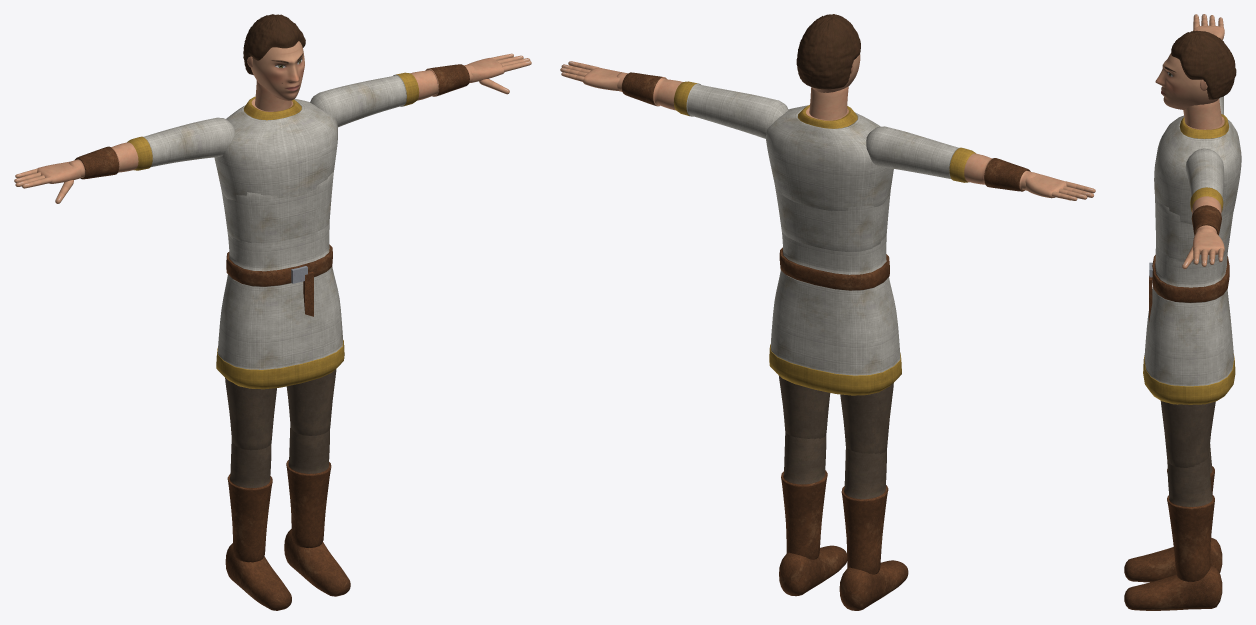
Rendered from body.glb.
The picture shows the model from 3 angles, left to right: view 1: azimuth 30°, elevation 25°; view 2: azimuth 150°, elevation 25°; view 3: azimuth 270°, elevation 25°; orthographic projection. The views are drawn at different scales.
Parts seen in each view (by area): view 1: B_mixamorigHips, B_mixamorigSpine2, B_mixamorigSpine, B_mixamorigSpine1, B_mixamorigRightLeg, B_mixamorigLeftLeg, B_mixamorigHead, B_mixamorigRightArm, B_mixamorigLeftArm, B_mixamorigRightUpLeg, B_mixamorigLeftUpLeg, B_mixamorigLeftFoot (+3 smaller); view 2: B_mixamorigHips, B_mixamorigSpine2, B_mixamorigLeftLeg, B_mixamorigRightLeg, B_mixamorigSpine1, B_mixamorigSpine, B_mixamorigHead, B_mixamorigLeftArm, B_mixamorigRightArm, B_mixamorigRightUpLeg, B_mixamorigLeftUpLeg, B_mixamorigRightFoot (+4 smaller); view 3: B_mixamorigHips, B_mixamorigSpine2, B_mixamorigLeftLeg, B_mixamorigHead, B_mixamorigSpine, B_mixamorigLeftFoot, B_mixamorigLeftUpLeg, B_mixamorigSpine1, B_mixamorigLeftArm, B_mixamorigRightFoot, B_mixamorigLeftForeArm, B_mixamorigNeck (+2 smaller).
Part boxes in pixels (x1=…): B_mixamorigHips: x1=216, y1=267, x2=344, y2=389; B_mixamorigSpine2: x1=214, y1=96, x2=337, y2=200; B_mixamorigSpine: x1=226, y1=222, x2=332, y2=316; B_mixamorigSpine1: x1=222, y1=172, x2=333, y2=243; B_mixamorigRightLeg: x1=227, y1=439, x2=272, y2=562; B_mixamorigLeftLeg: x1=286, y1=425, x2=331, y2=547; B_mixamorigHead: x1=243, y1=14, x2=305, y2=100; B_mixamorigRightArm: x1=127, y1=117, x2=234, y2=170; B_mixamorigLeftArm: x1=310, y1=72, x2=419, y2=127; B_mixamorigRightUpLeg: x1=225, y1=378, x2=276, y2=450; B_mixamorigLeftUpLeg: x1=286, y1=369, x2=336, y2=435; B_mixamorigLeftFoot: x1=284, y1=529, x2=350, y2=596; B_mixamorigHips: x1=769, y1=270, x2=901, y2=395; B_mixamorigSpine2: x1=766, y1=105, x2=893, y2=211; B_mixamorigLeftLeg: x1=781, y1=432, x2=827, y2=559; B_mixamorigRightLeg: x1=841, y1=447, x2=888, y2=574; B_mixamorigSpine1: x1=775, y1=185, x2=890, y2=251; B_mixamorigSpine: x1=779, y1=232, x2=889, y2=290; B_mixamorigHead: x1=796, y1=14, x2=860, y2=92; B_mixamorigLeftArm: x1=673, y1=81, x2=788, y2=138; B_mixamorigRightArm: x1=866, y1=126, x2=975, y2=182; B_mixamorigRightUpLeg: x1=840, y1=383, x2=893, y2=453; B_mixamorigLeftUpLeg: x1=778, y1=375, x2=830, y2=439; B_mixamorigRightFoot: x1=839, y1=560, x2=908, y2=610; B_mixamorigHips: x1=1143, y1=286, x2=1235, y2=404; B_mixamorigSpine2: x1=1154, y1=114, x2=1241, y2=224; B_mixamorigLeftLeg: x1=1167, y1=456, x2=1214, y2=581; B_mixamorigHead: x1=1155, y1=30, x2=1236, y2=109; B_mixamorigSpine: x1=1149, y1=239, x2=1229, y2=321; B_mixamorigLeftFoot: x1=1124, y1=566, x2=1222, y2=610; B_mixamorigLeftUpLeg: x1=1160, y1=401, x2=1215, y2=467; B_mixamorigSpine1: x1=1155, y1=197, x2=1233, y2=263; B_mixamorigLeftArm: x1=1185, y1=148, x2=1223, y2=211; B_mixamorigRightFoot: x1=1124, y1=537, x2=1222, y2=582; B_mixamorigLeftForeArm: x1=1191, y1=196, x2=1221, y2=235; B_mixamorigNeck: x1=1183, y1=99, x2=1222, y2=129.
Bounding box in the file's own units: 1.72 × 1.79 × 0.3404.
9 materials, 8 textured.
